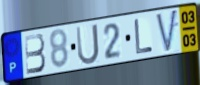2: (102, 22, 122, 62)
8: (48, 28, 72, 71)
B: (23, 32, 48, 76)
L: (133, 17, 154, 56)
U: (75, 22, 101, 67)
V: (154, 7, 179, 55)
